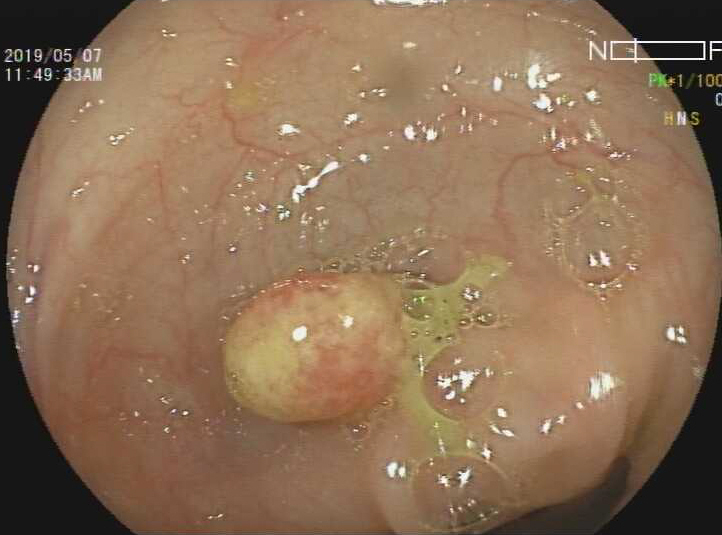others: (216, 267, 412, 424)
